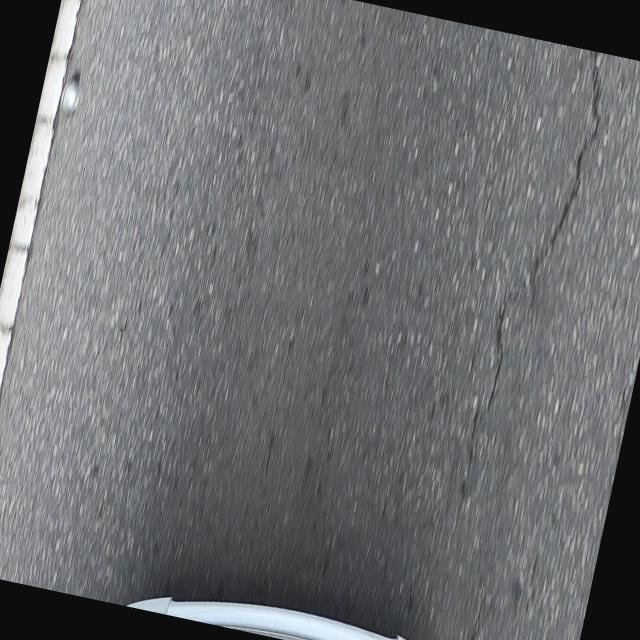Retak-Memanjang: (457, 50, 601, 502)
